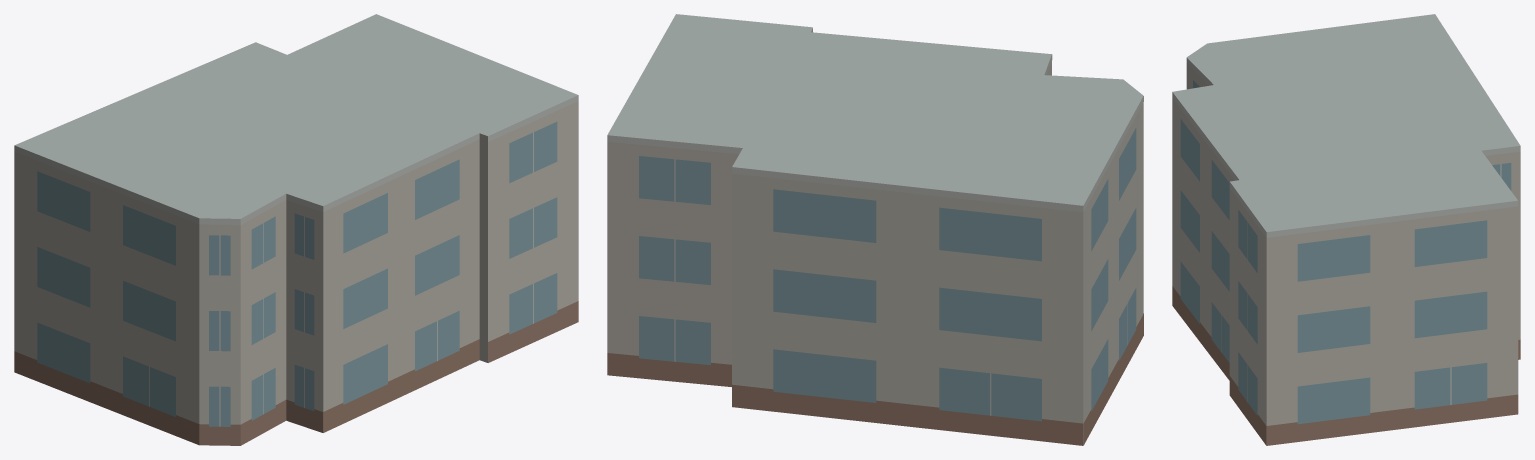
File: survey-upis-32561041.glb
3 renders of one model, left to right at view 1: azimuth 30°, elevation 25°; view 2: azimuth 150°, elevation 25°; view 3: azimuth 270°, elevation 25°, orthographic. The views are drawn at different scales.
Parts seen in each view (by area): view 1: survey-upis-32561041.tmp; view 2: survey-upis-32561041.tmp; view 3: survey-upis-32561041.tmp.
Boxes of the visible parts, left/top/right/bottom form: survey-upis-32561041.tmp: left=14, top=14, right=578, bottom=445; survey-upis-32561041.tmp: left=607, top=14, right=1143, bottom=445; survey-upis-32561041.tmp: left=1172, top=14, right=1520, bottom=445.
Bounding box in the file's own units: 20.04 × 9.15 × 13.53.
